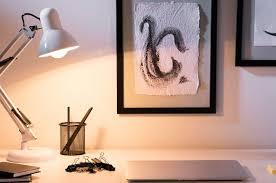Lamp: (0, 1, 91, 165)
